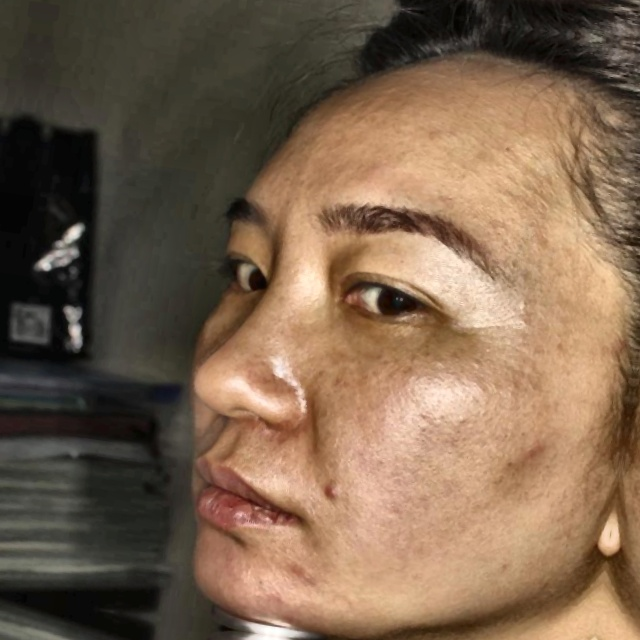comedone: (506, 431, 554, 478), (314, 477, 349, 501)
